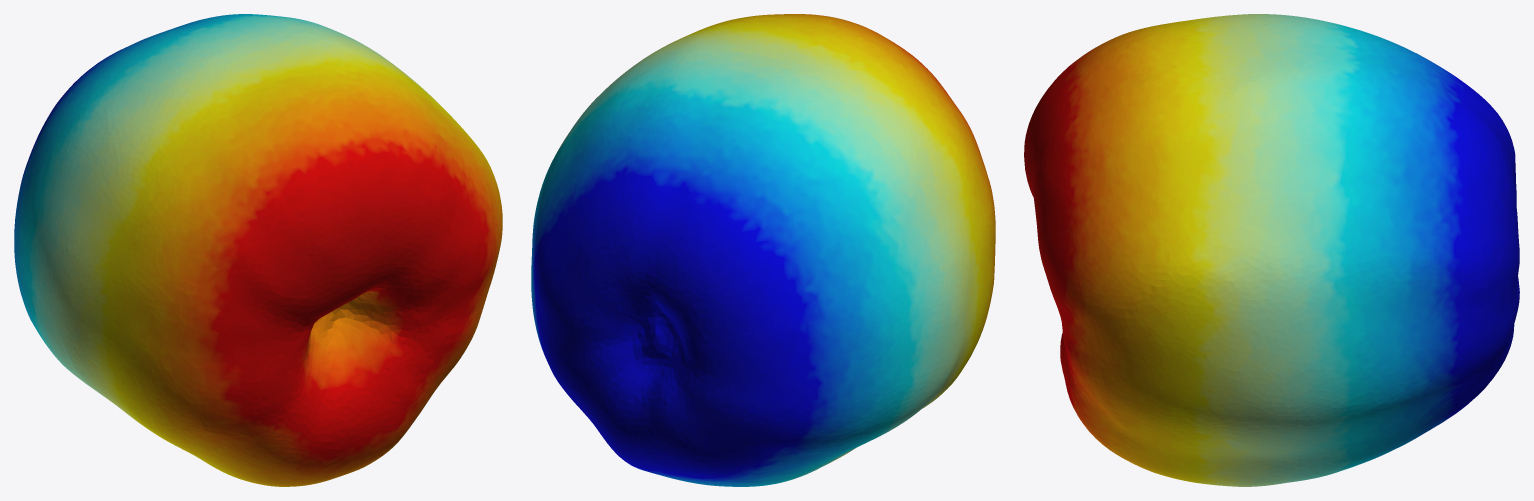
File: apple_ours.glb
3 views of the same model, side by side, from view 1: azimuth 30°, elevation 25°; view 2: azimuth 150°, elevation 25°; view 3: azimuth 270°, elevation 25° (orthographic). The views are drawn at different scales.
Parts seen in each view (by area): view 1: apple.obj; view 2: apple.obj; view 3: apple.obj.
Part boxes in pixels (left/top/right/bottom): apple.obj: left=14, top=14, right=502, bottom=486; apple.obj: left=531, top=14, right=995, bottom=486; apple.obj: left=1024, top=14, right=1519, bottom=486.
Bounding box in the file's own units: 1.73 × 1.71 × 1.81.
